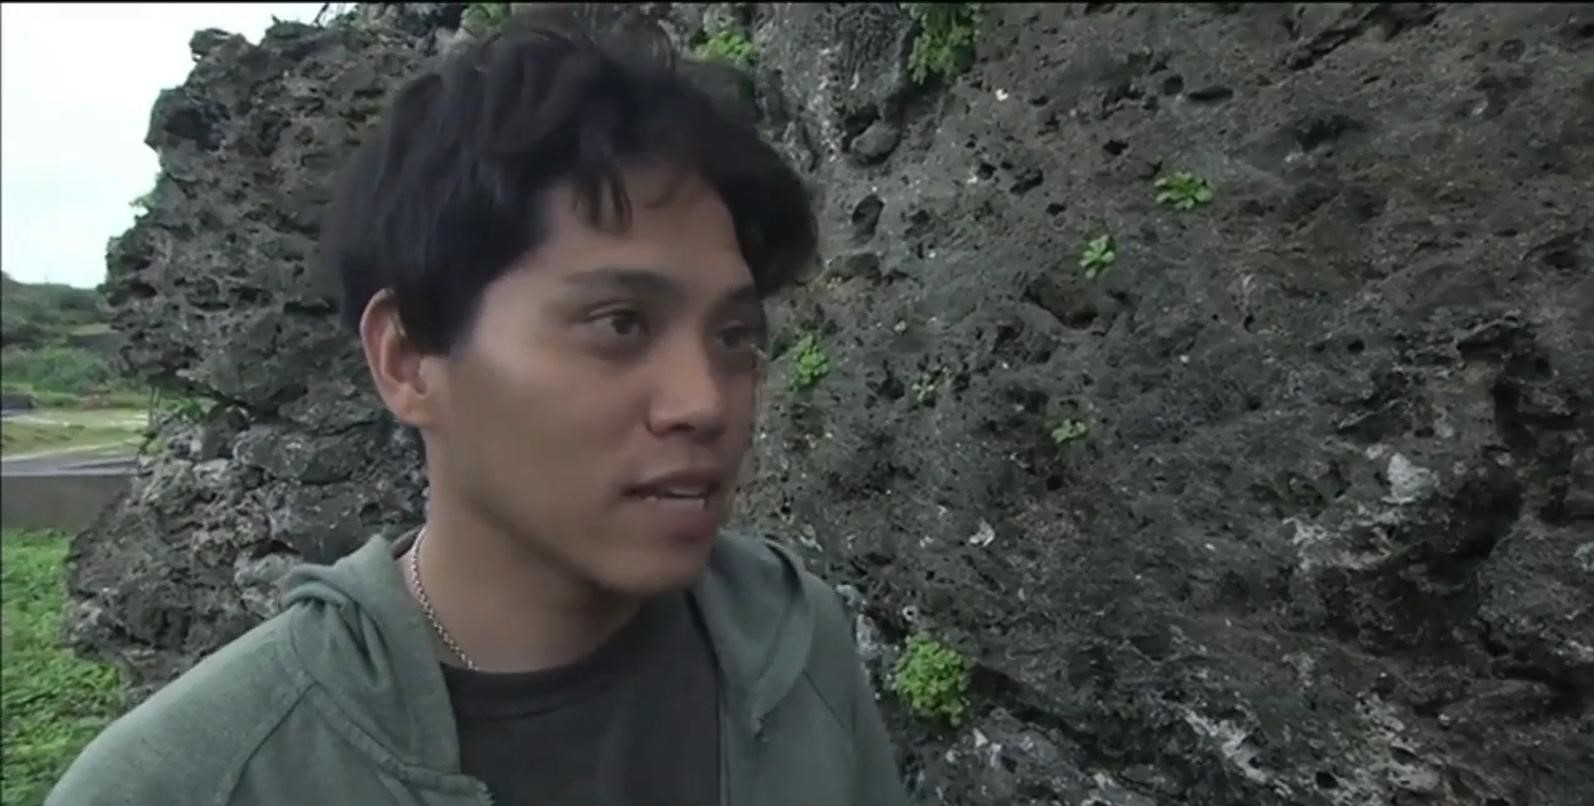without_mask: (507, 266, 726, 544)
